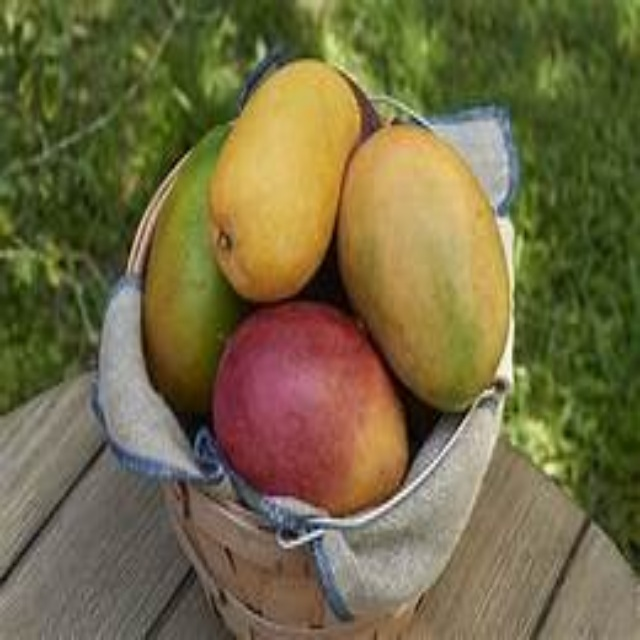mango: (341, 124, 510, 408), (210, 308, 411, 515), (212, 60, 351, 302), (143, 125, 241, 417)
